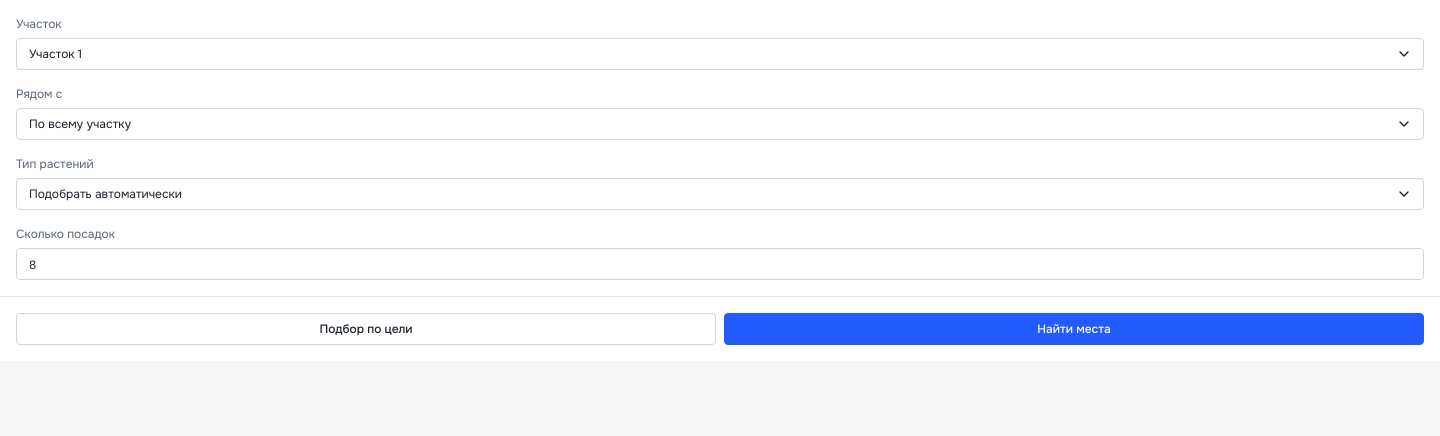
Test: AutomaticPlacementPanel › ends waiting and exposes the error without repeating the failed pass
Click the button "Найти места": (1074, 329) x1=724 y1=313 x2=1424 y2=345
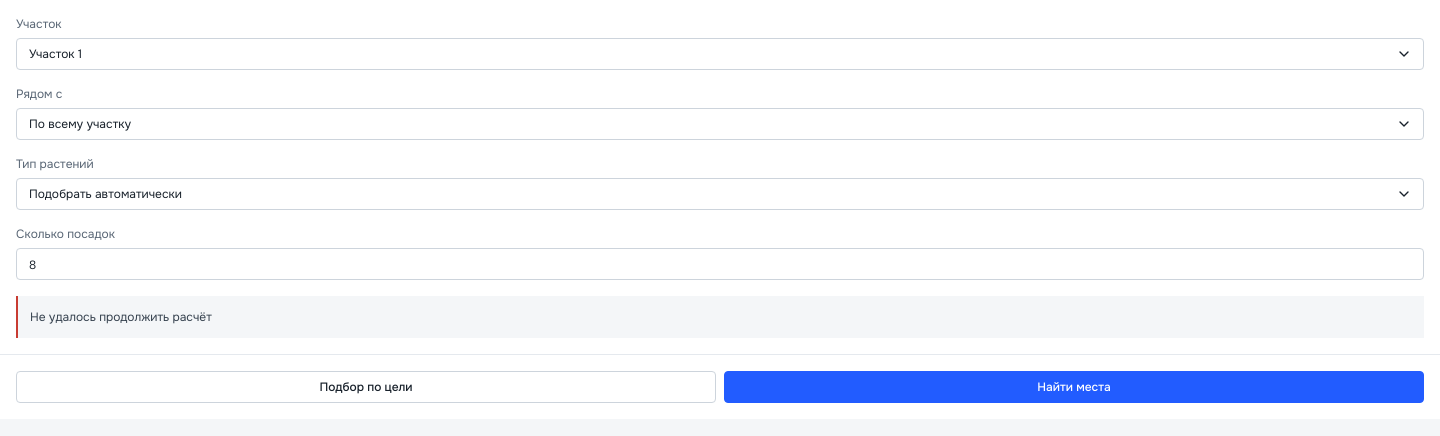
expect the button "Найти места" is enabled: met, box x1=724 y1=371 x2=1424 y2=403
expect the text "Не удалось продолжить расчёт" is shown: met, box x1=30 y1=308 x2=212 y2=326
